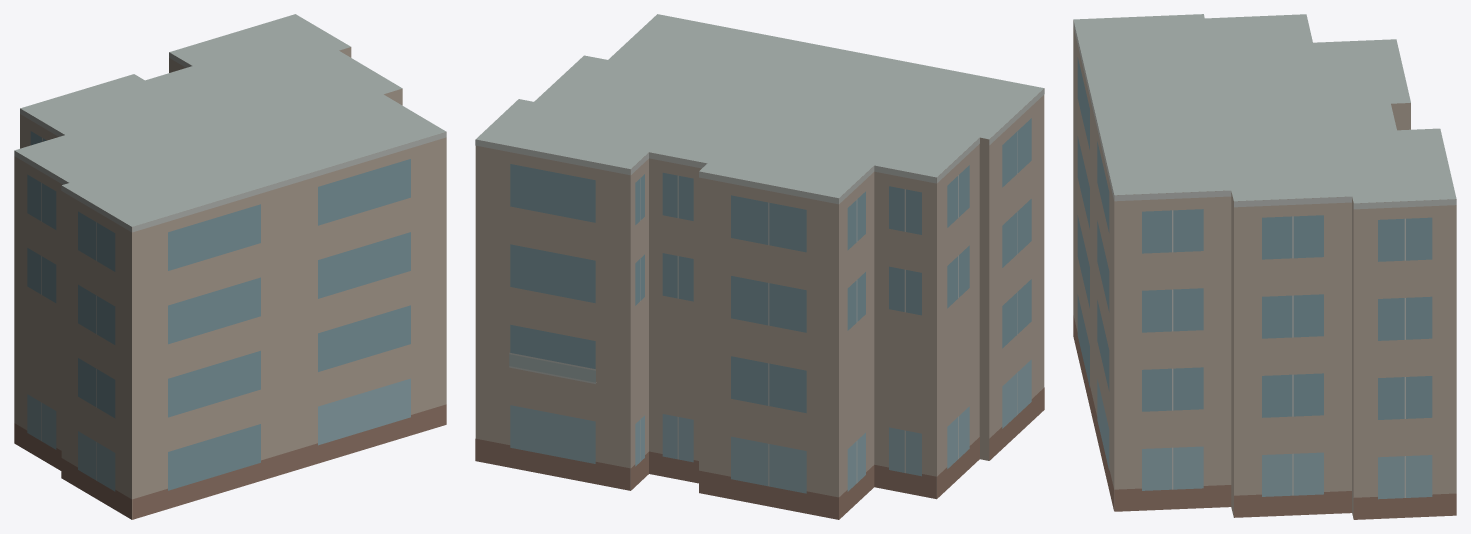
The model's file is survey-upis-32644573.glb.
The picture shows the model from 3 angles, left to right: view 1: azimuth 30°, elevation 25°; view 2: azimuth 150°, elevation 25°; view 3: azimuth 270°, elevation 25°; orthographic projection. The views are drawn at different scales.
Visible parts, largest first — view 1: survey-upis-32644573.tmp; view 2: survey-upis-32644573.tmp; view 3: survey-upis-32644573.tmp.
Boxes of the visible parts, bbox=[...] form: survey-upis-32644573.tmp: bbox=[14, 14, 446, 519]; survey-upis-32644573.tmp: bbox=[475, 14, 1044, 519]; survey-upis-32644573.tmp: bbox=[1073, 14, 1456, 519].
Bounding box in the file's own units: 16.44 × 12.8 × 14.06.
